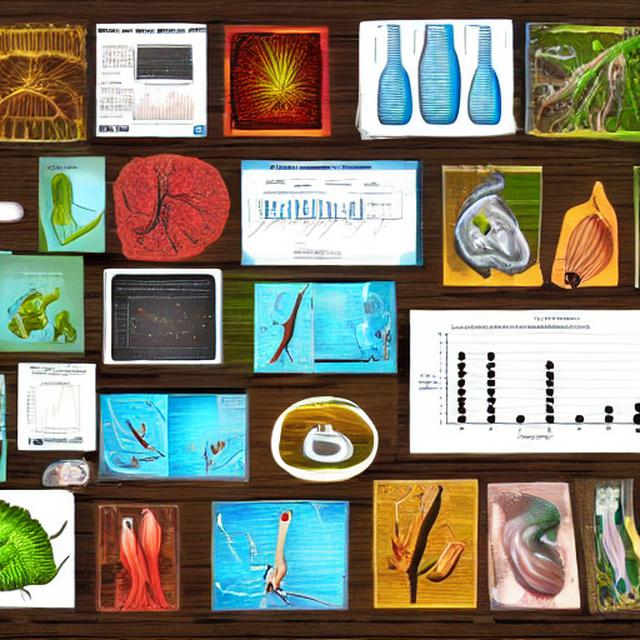Graph: (413, 320, 627, 444), (112, 295, 214, 361), (245, 189, 343, 248), (19, 379, 94, 435), (124, 83, 194, 123)
